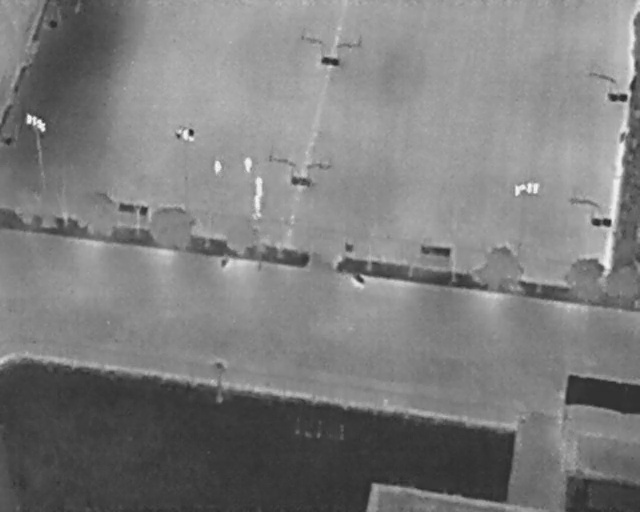Person: (254, 194, 262, 220), (255, 176, 263, 196), (214, 160, 222, 177), (244, 157, 252, 173)
